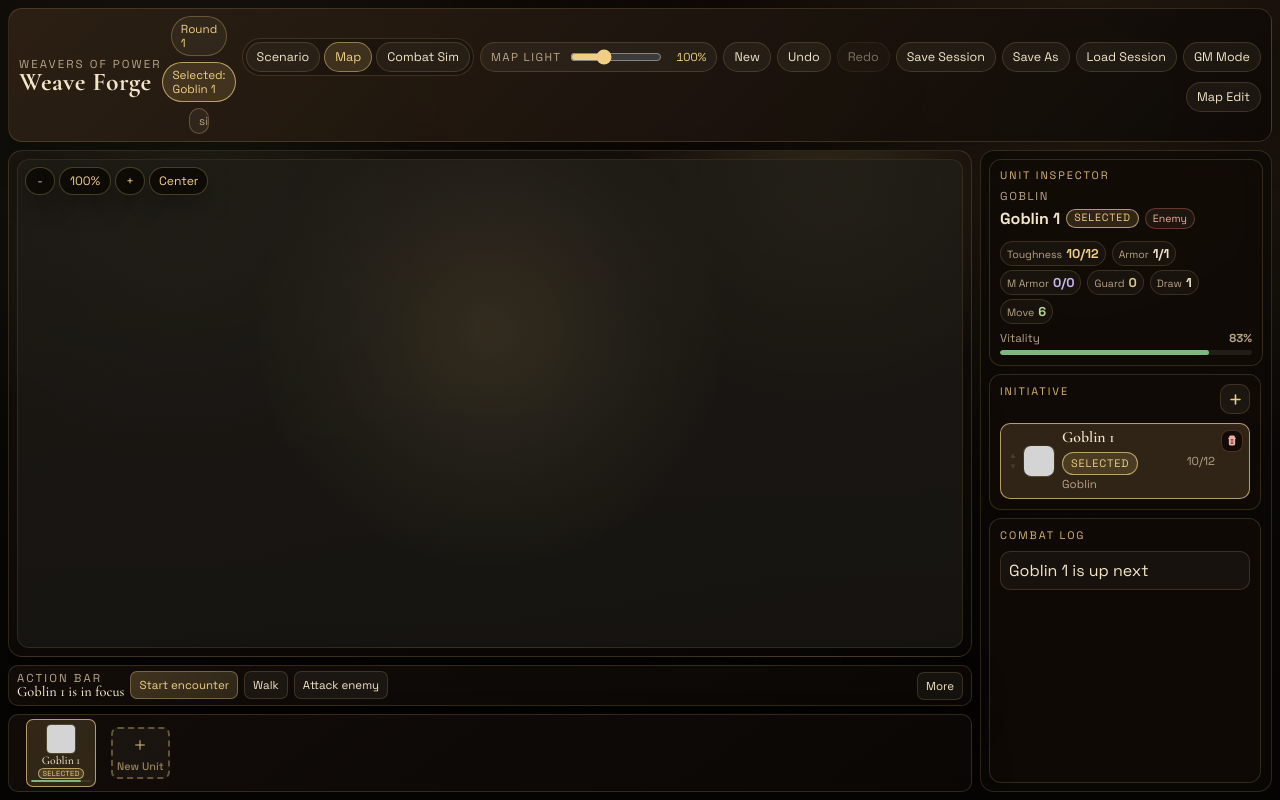
Scenario: App › requires confirmation before starting a new session when history exists
Click the button "New".
click(747, 57)  # box [724,42,771,72]
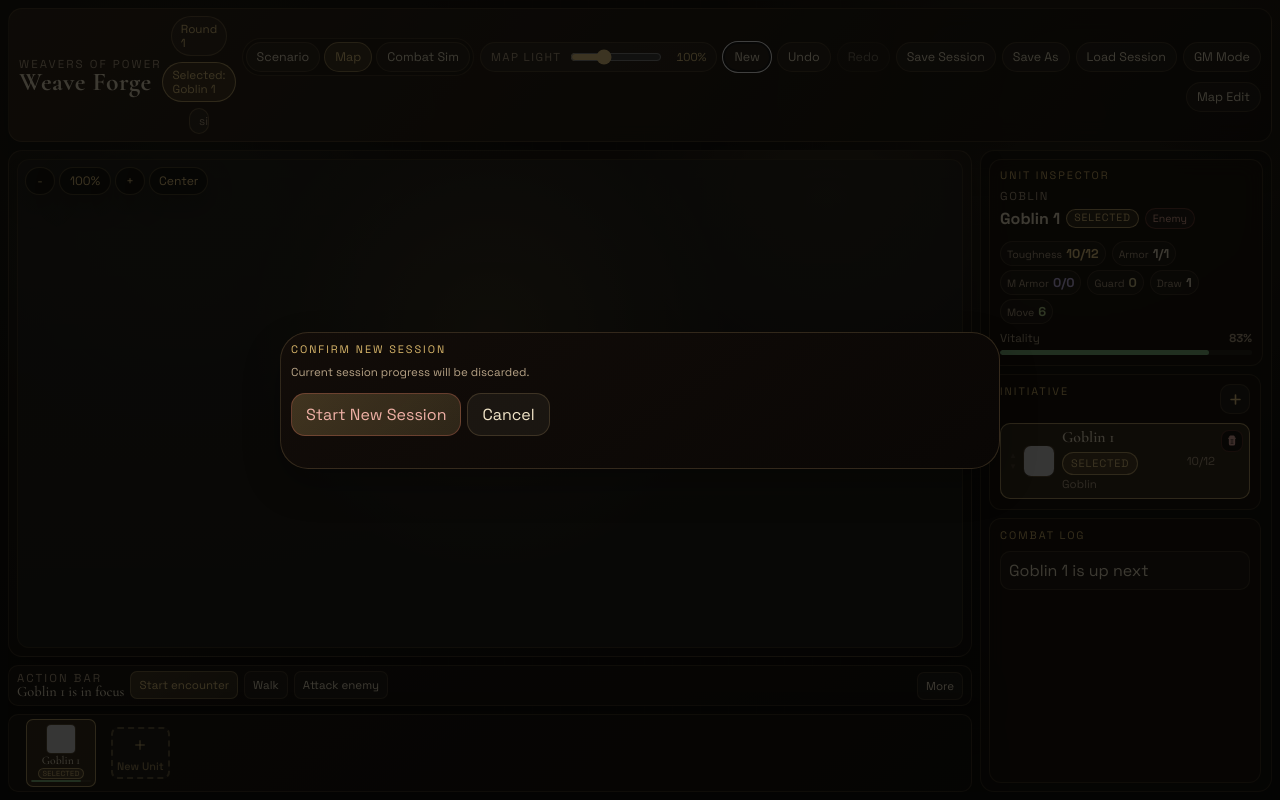
Expected: the button "Close" is not shown
Now the text "Confirm New Session" is shown, box [291,342,446,356]
Now the text "Current session progress will be discarded." is shown, box [291,364,529,378]
Click the button "Cancel".
click(509, 414)  # box [468,392,550,436]
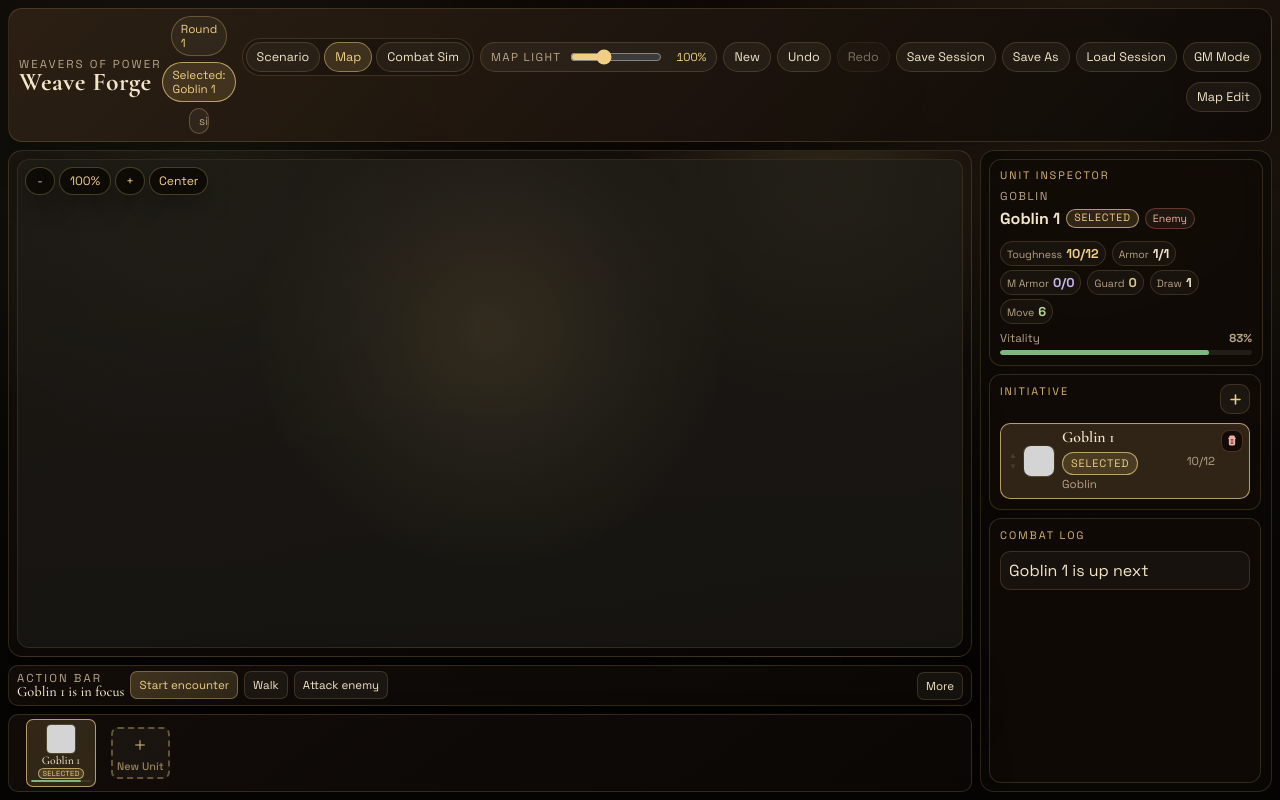
Now the text "Confirm New Session" is gone
Click the button "New".
click(747, 57)  # box [724,42,771,72]
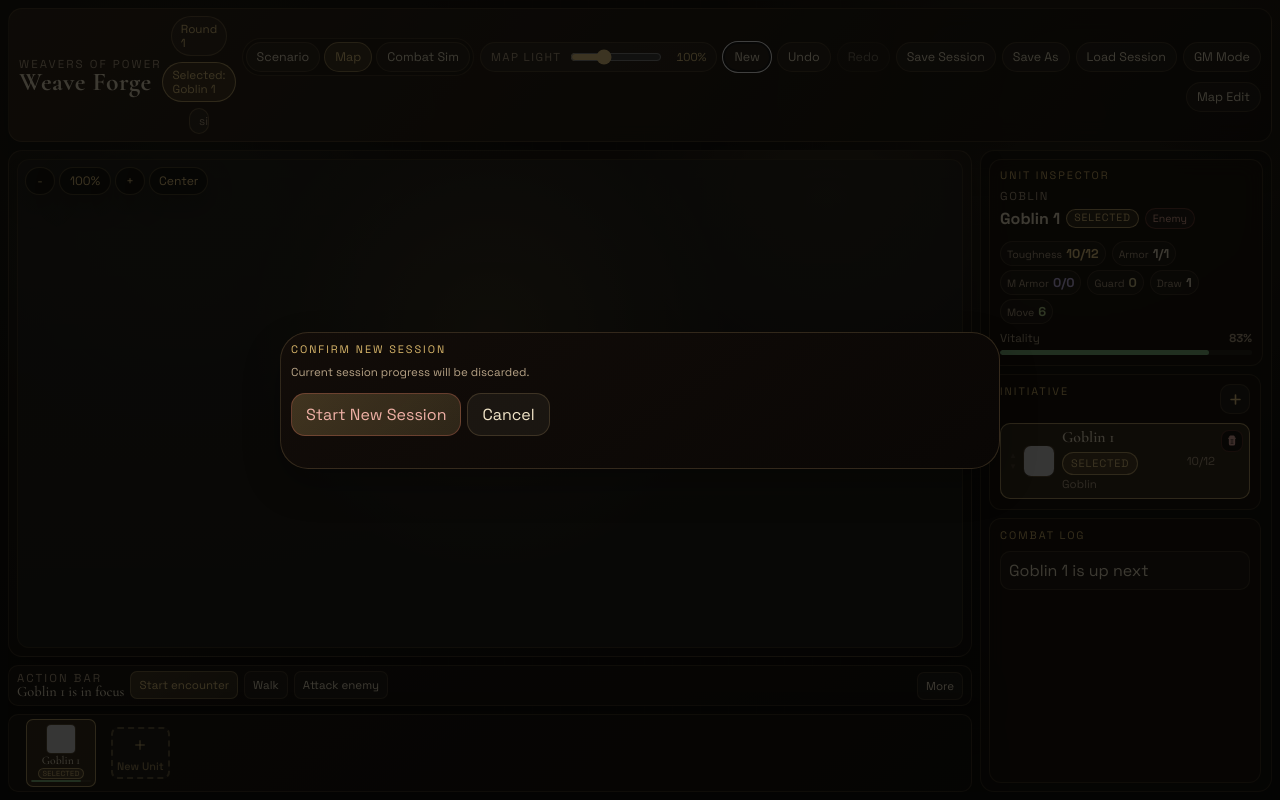
Click the button "Start New Session".
click(376, 414)  # box [291,392,462,436]
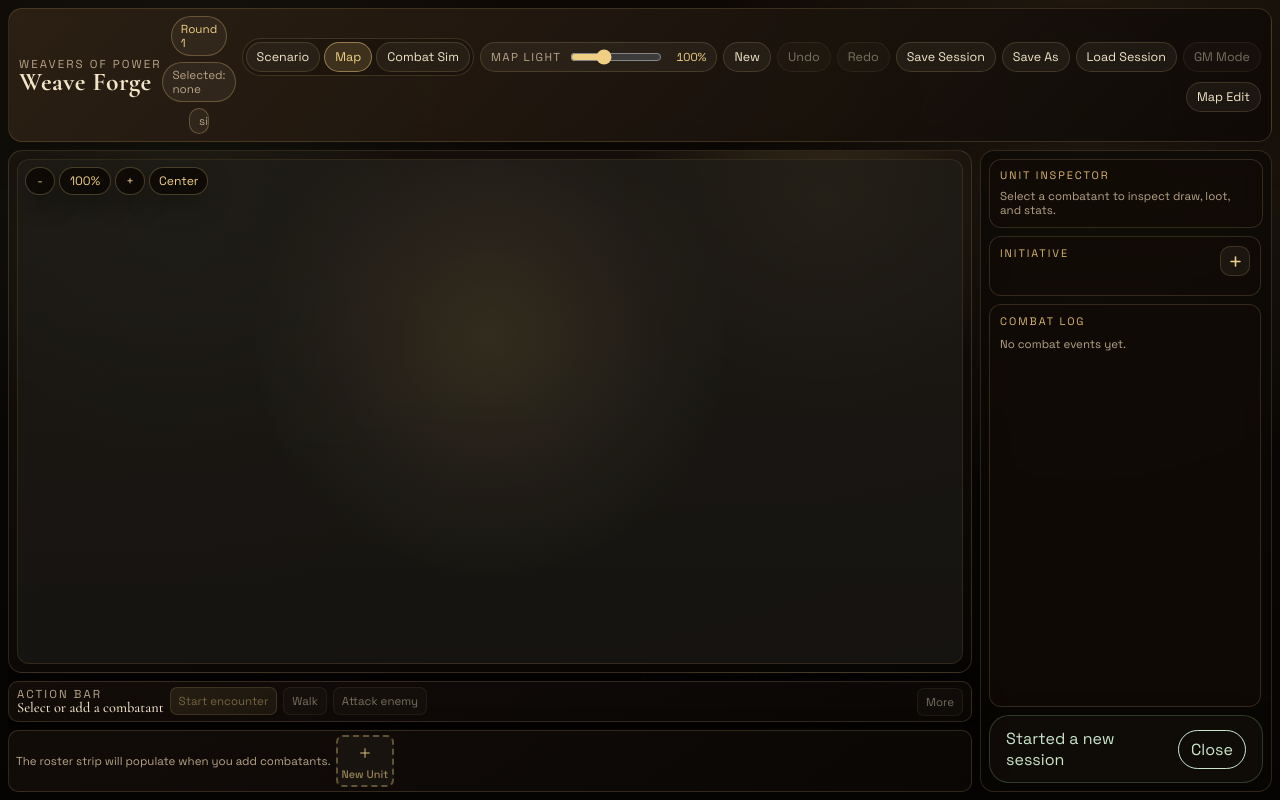
Now the text "Started a new session" is shown, box [1006,728,1115,770]
